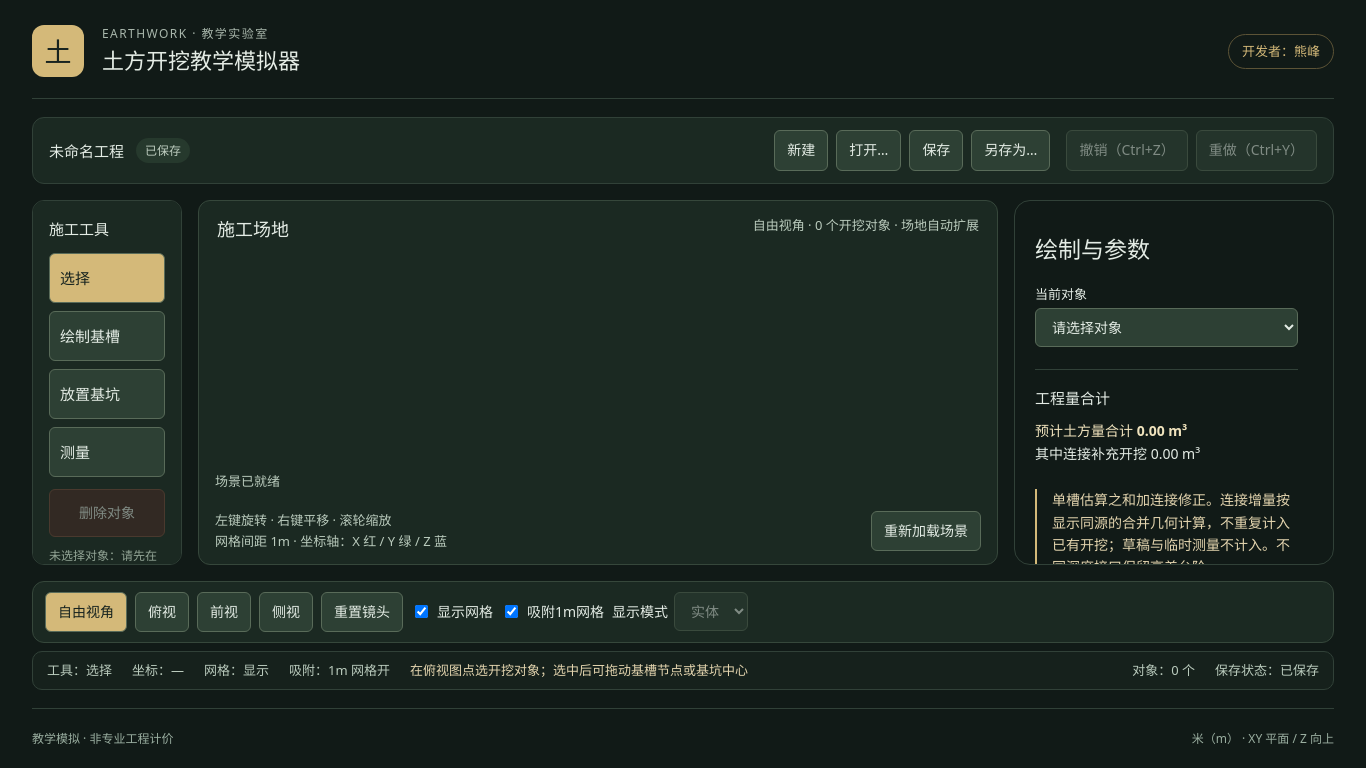
Test case: M5 俯视绘制与放置 › 单击三点后 Enter 只产生一个三节点基槽，绘制期间锁定视角
The image size is (1366, 768).
Click the button "绘制基槽".
click(107, 336)  # box [49,311,165,361]
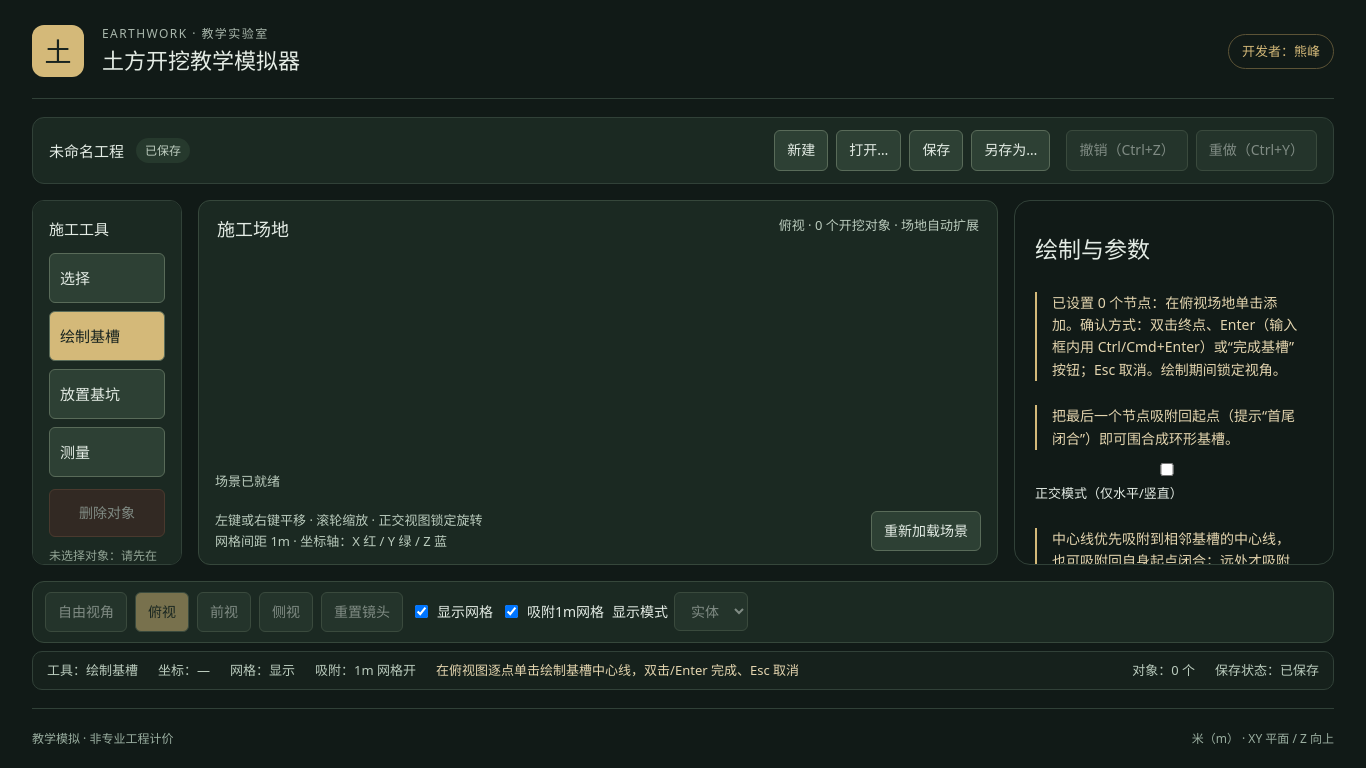
Result: the button "自由视角" is disabled at [45,592,127,632]
Click the picture named "三维施工场地".
click(598, 361)  # box [199,258,997,465]
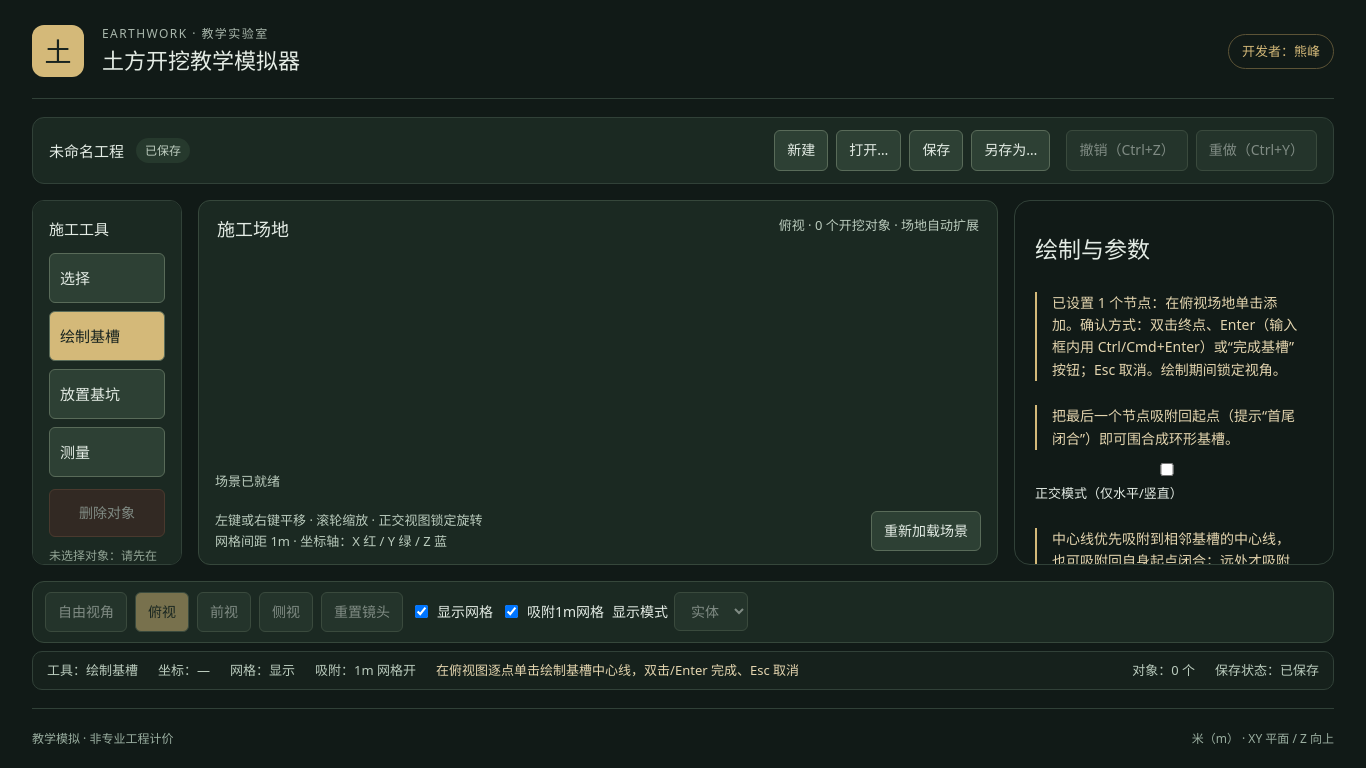
Click the picture named "三维施工场地".
click(598, 361)  # box [199,258,997,465]
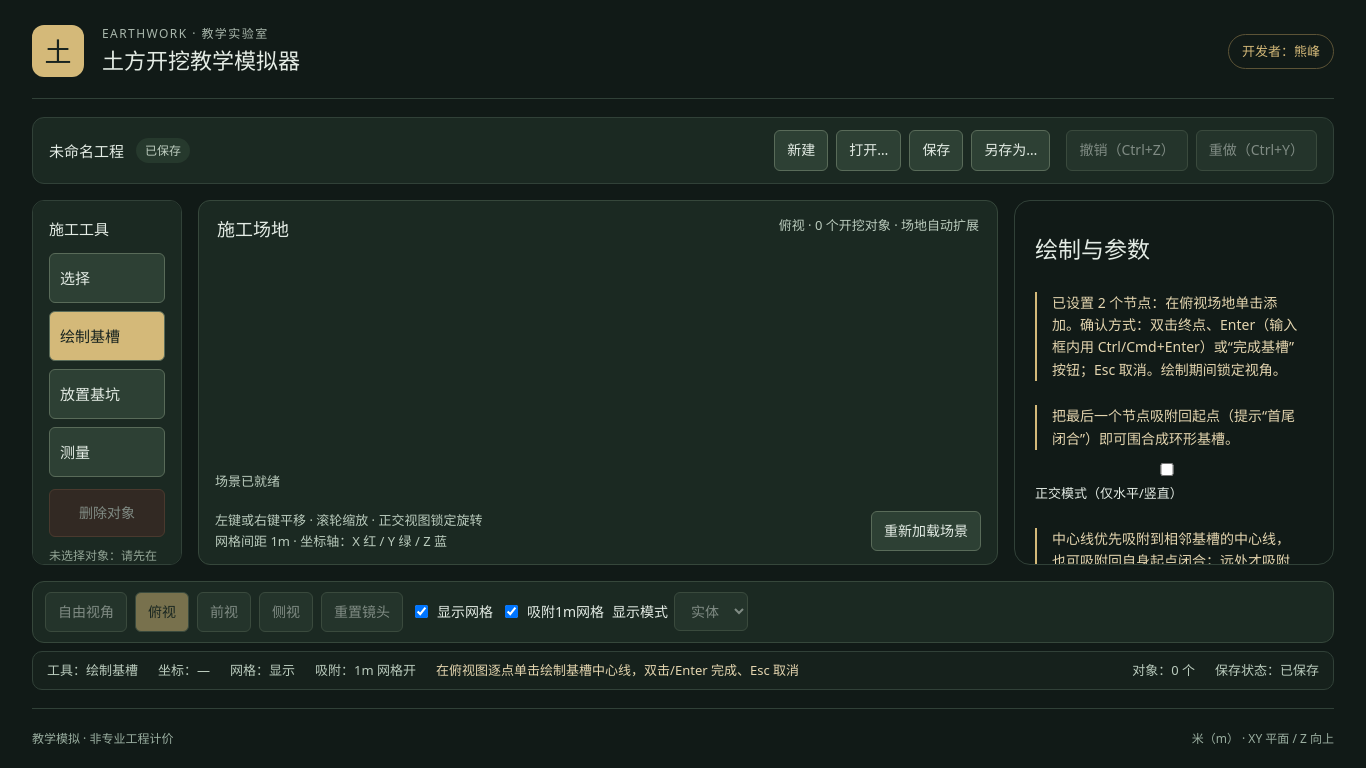
Click the picture named "三维施工场地".
click(598, 361)  # box [199,258,997,465]
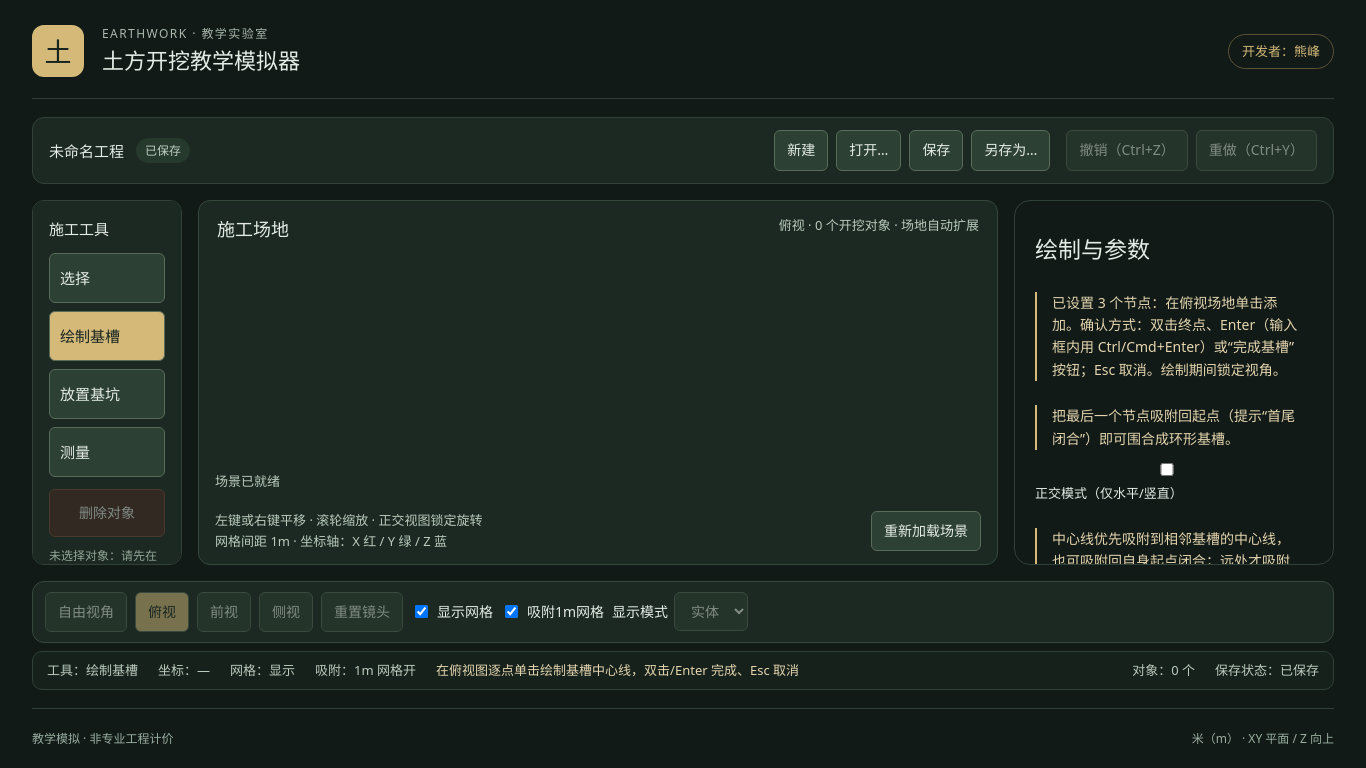
Result: the text "已设置 3 个节点" is shown at [1035,292,1298,381]
Press Enter
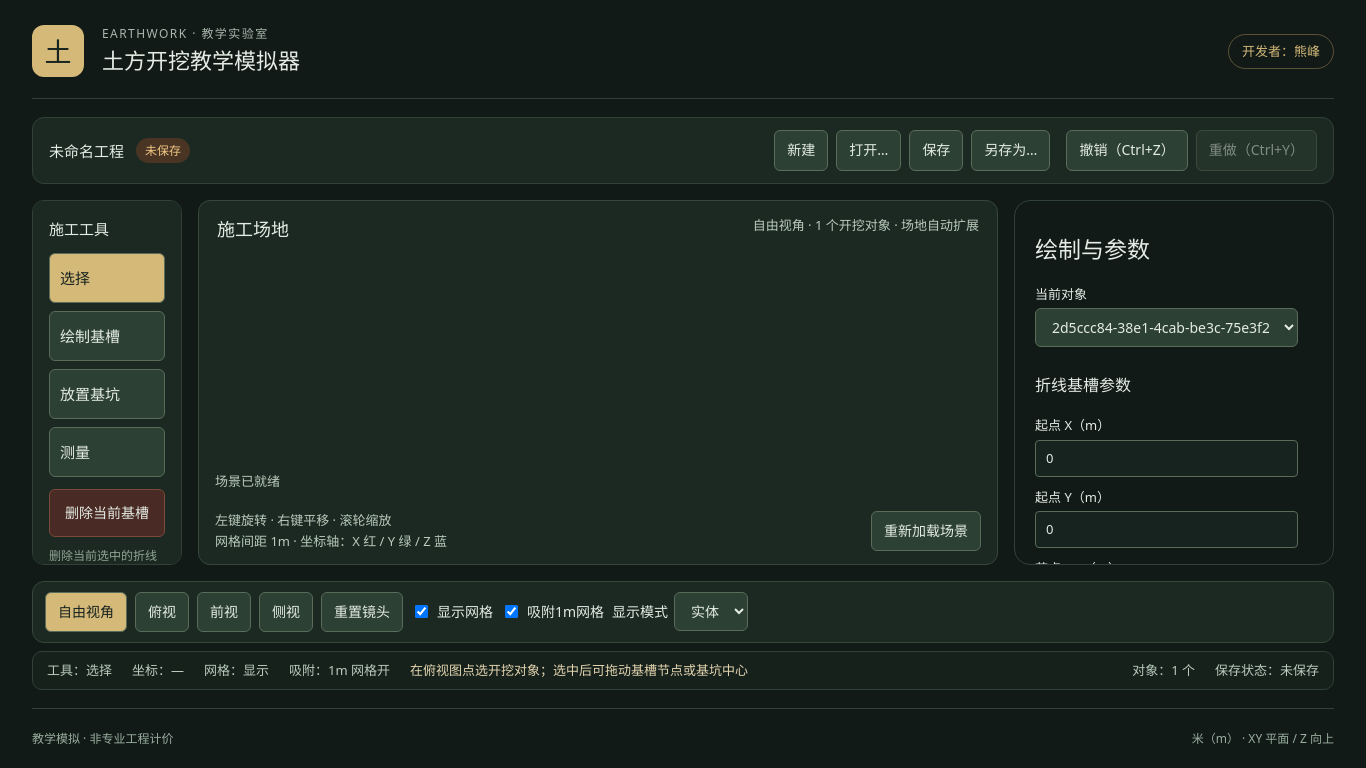
Result: the button "自由视角" is enabled at [45,592,127,632]
